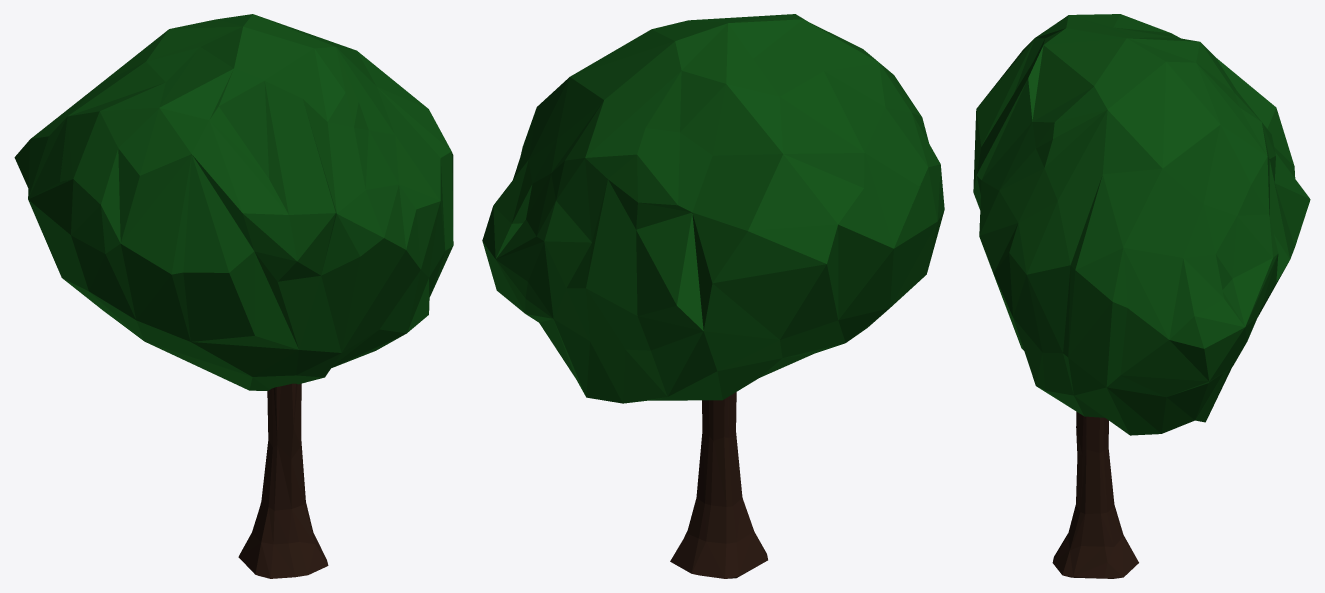
File: SM_tree_15.fbx
The picture shows the model from 3 angles, left to right: view 1: azimuth 30°, elevation 25°; view 2: azimuth 150°, elevation 25°; view 3: azimuth 270°, elevation 25°; orthographic projection. The views are drawn at different scales.
Visible parts, largest first — view 1: tree_15; view 2: tree_15; view 3: tree_15.
Part boxes in pixels (x1,y1,x2,y2): tree_15: (14, 14, 453, 578); tree_15: (482, 14, 944, 578); tree_15: (973, 14, 1310, 578).
Bounding box in the file's own units: 691 × 899 × 534.
